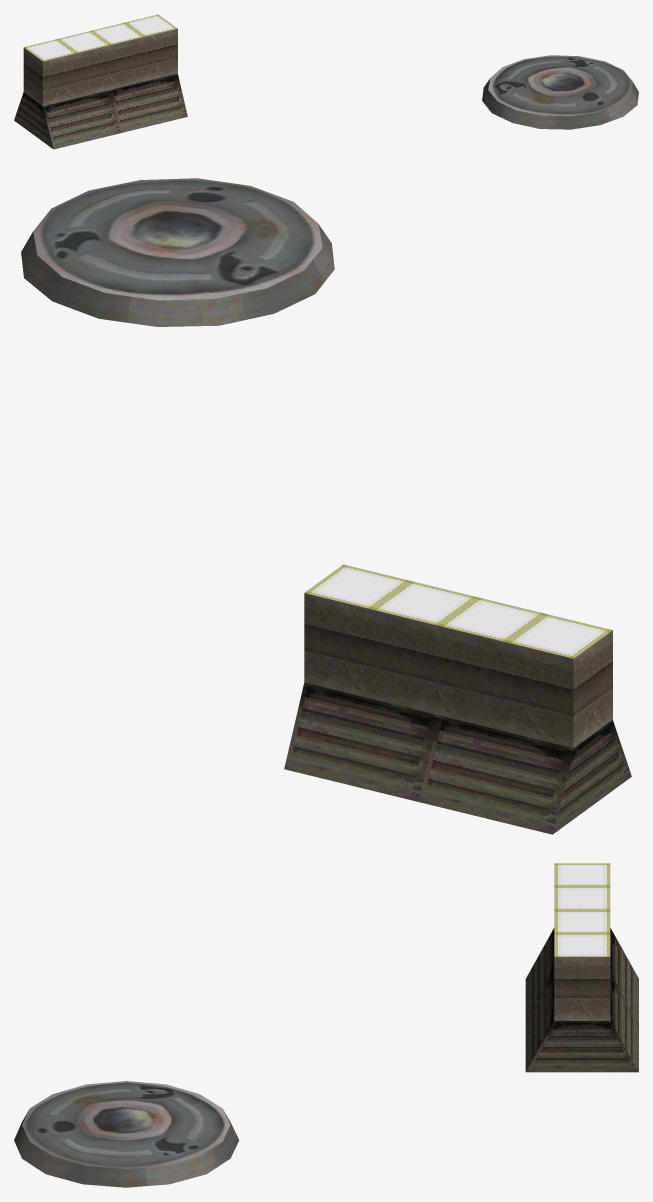
Rendered from hj2-farma-mesh.glb.
3 renders of one model, top to bottom at view 1: azimuth 30°, elevation 25°; view 2: azimuth 150°, elevation 25°; view 3: azimuth 270°, elevation 25°, orthographic. The views are drawn at different scales.
Visible parts, largest first — view 1: hj2-farma-props; view 2: hj2-farma-props; view 3: hj2-farma-props.
Part boxes in pixels (<box>): hj2-farma-props: <box>14,14,638,149</box>; hj2-farma-props: <box>21,178,631,834</box>; hj2-farma-props: <box>14,863,638,1187</box>.
Size of the model in its own units: 16.97 by 3.01 by 14.77.
5 materials, 5 textured.
